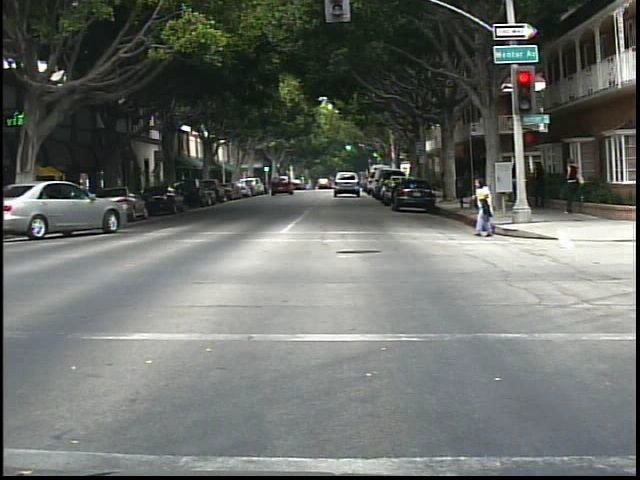person: (467, 175, 502, 243), (560, 153, 589, 214), (533, 156, 555, 213)
